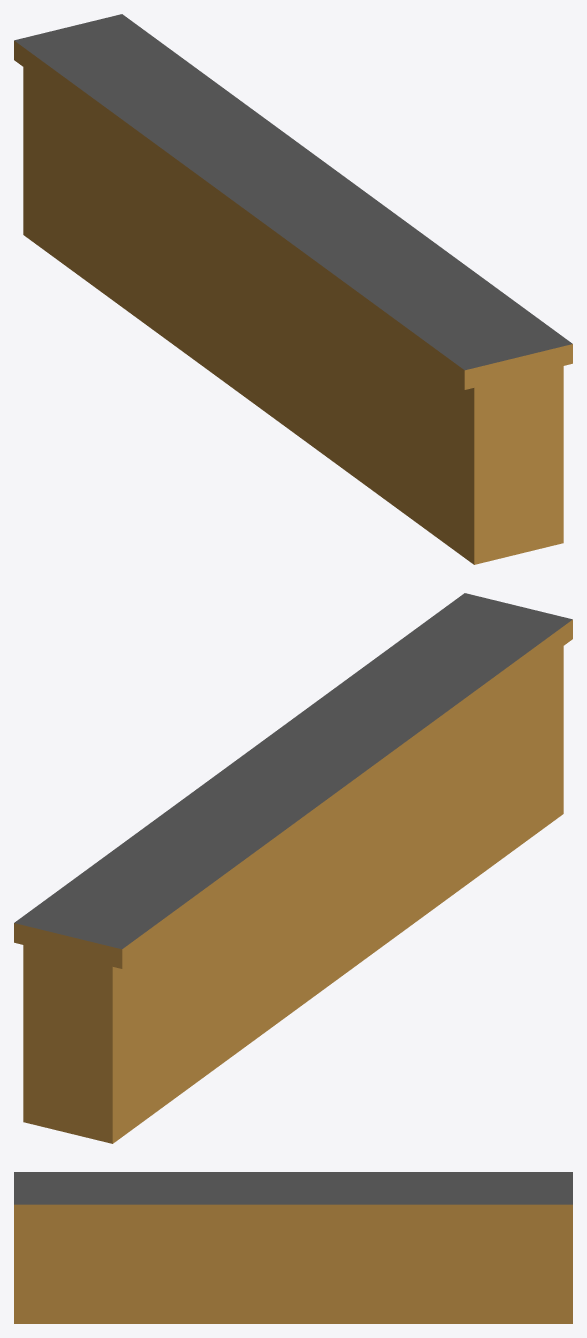
The model's file is Skate_Slide_Rail_Double_Flat_01.FBX.
3 renders of one model, top to bottom at view 1: azimuth 30°, elevation 25°; view 2: azimuth 150°, elevation 25°; view 3: azimuth 270°, elevation 25°, orthographic. The views are drawn at different scales.
Visible parts, largest first — view 1: Skate_Slide_Rail_Double_Flat_01; view 2: Skate_Slide_Rail_Double_Flat_01; view 3: Skate_Slide_Rail_Double_Flat_01.
Part boxes in pixels (box(x1,y1,x2,y2)): Skate_Slide_Rail_Double_Flat_01: box(14, 14, 572, 564); Skate_Slide_Rail_Double_Flat_01: box(14, 593, 572, 1143); Skate_Slide_Rail_Double_Flat_01: box(14, 1172, 572, 1323).
Size of the model in its own units: 416 by 723 by 3000.
